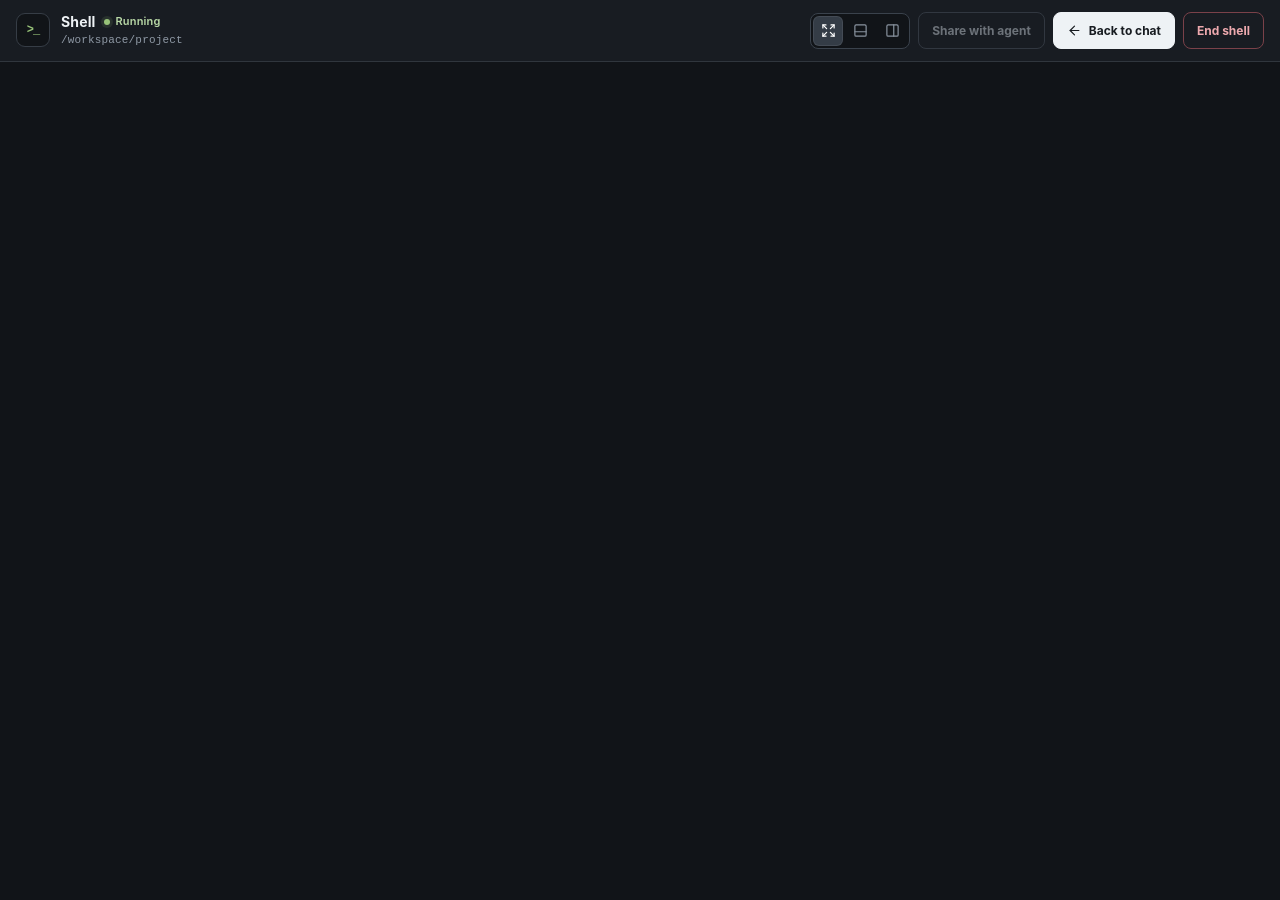
Test case: ShellOverlay › switches between full-screen, bottom, and side docking with an accessible resizer
Step 1. Click the button named "Dock bottom" → (860, 30), box [845,16,875,46]
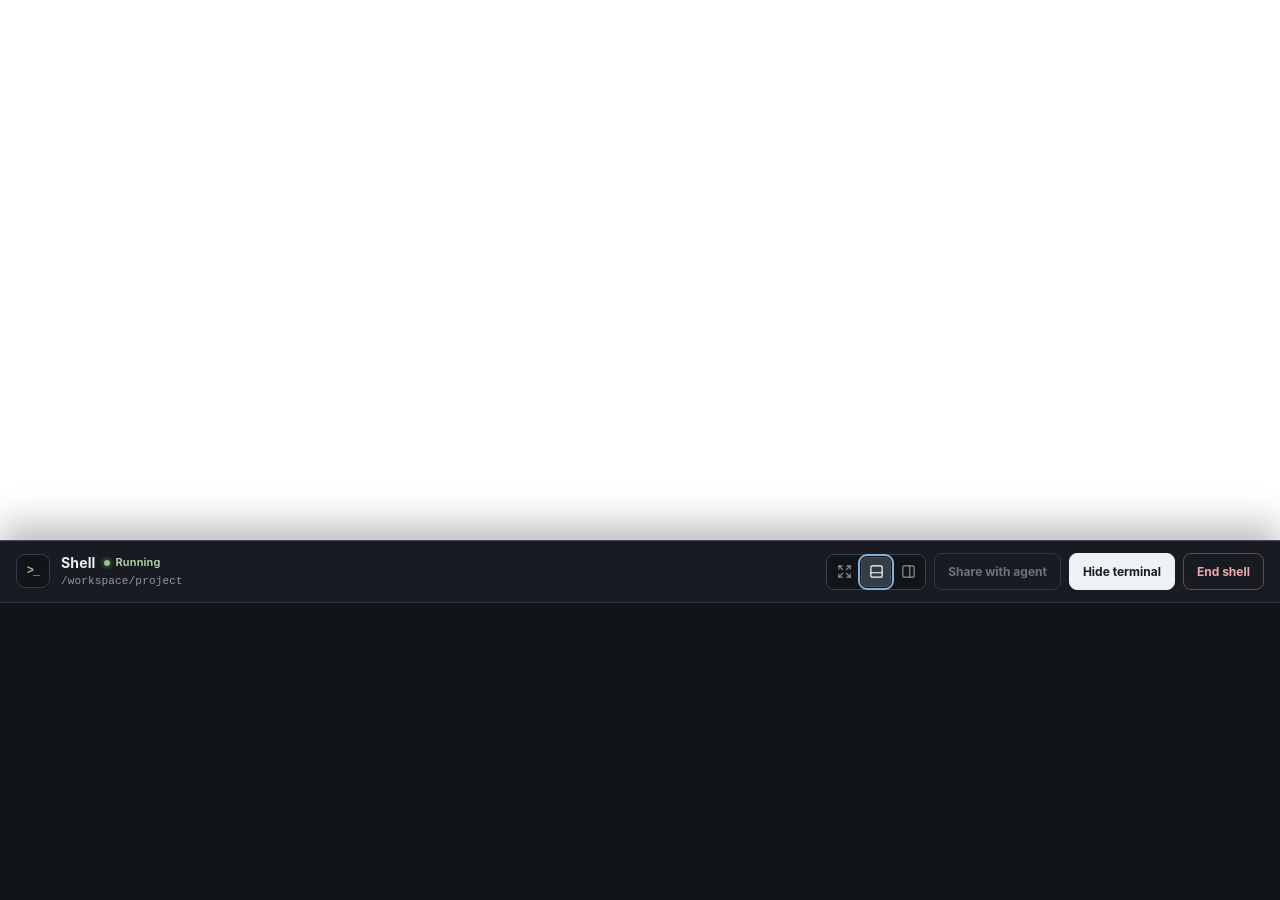
expect the button "Hide terminal" is shown: met, box [1069,553,1175,590]
Step 2. Press ArrowUp in the element named "Resize bottom terminal dock", box [0,536,1279,546]
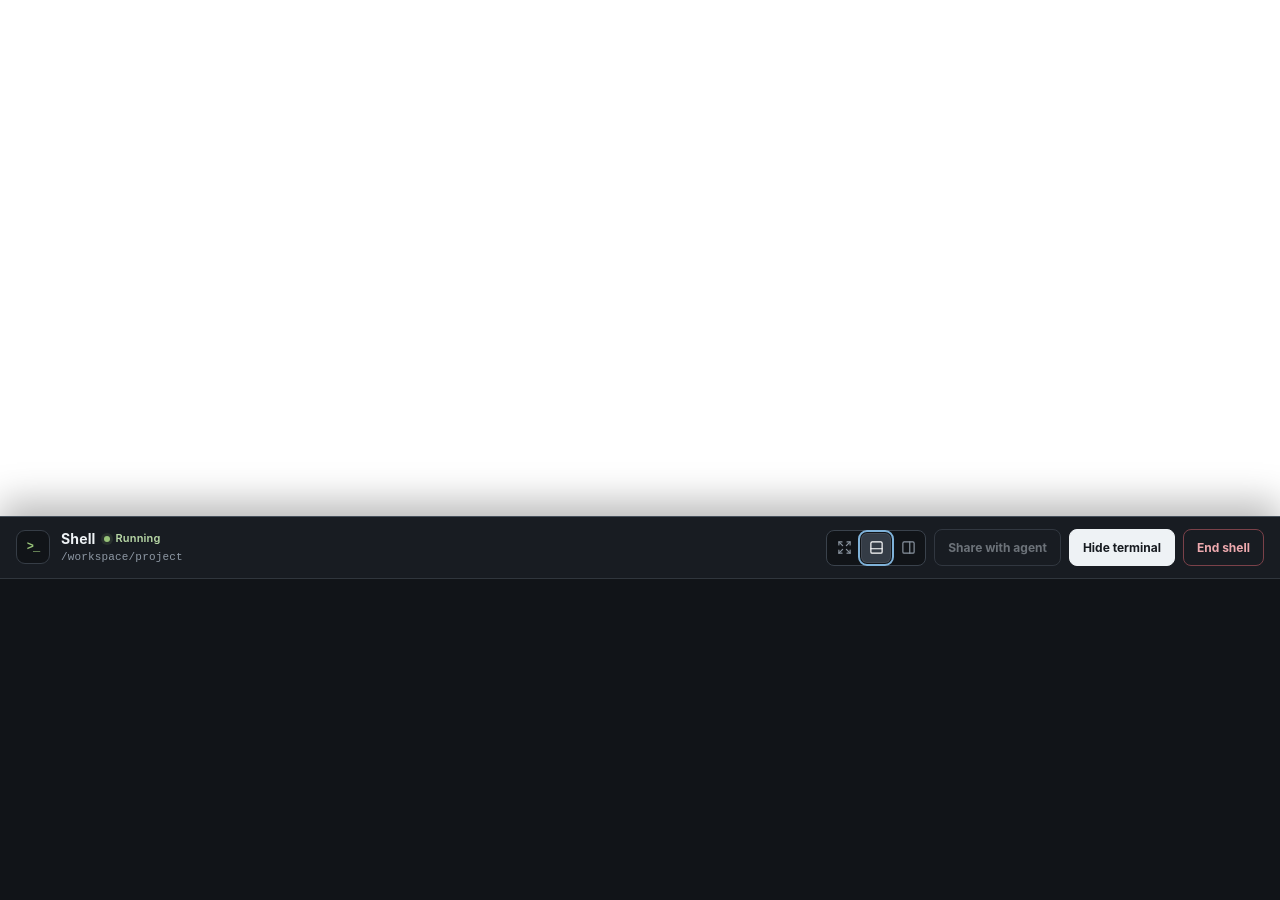
Step 3. Click the button named "Dock right" → (908, 548), box [893,532,923,562]
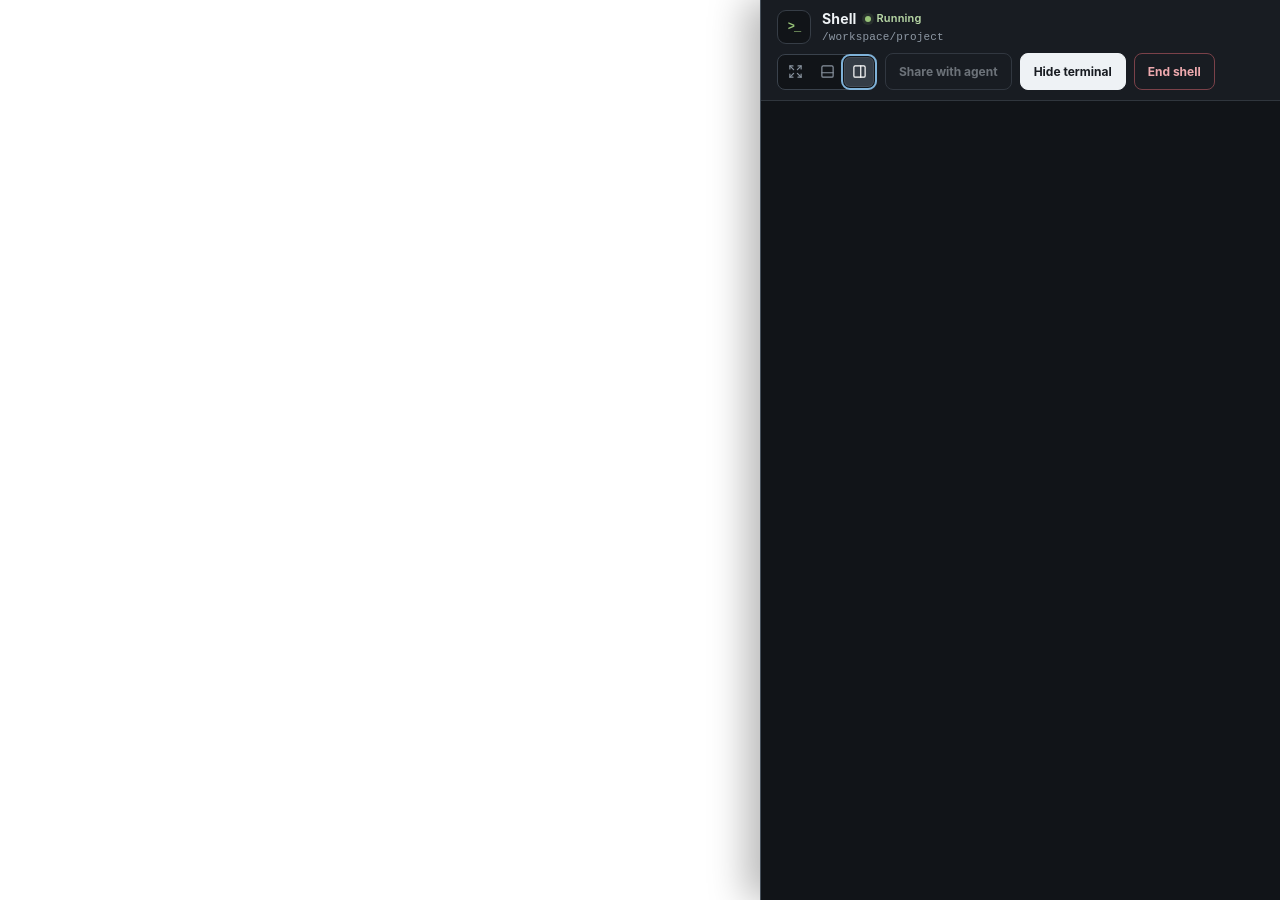
expect the element named "Resize right terminal dock" is shown: met, box [756,0,766,899]
Step 4. Click the button named "Full screen" → (795, 72), box [780,57,810,87]
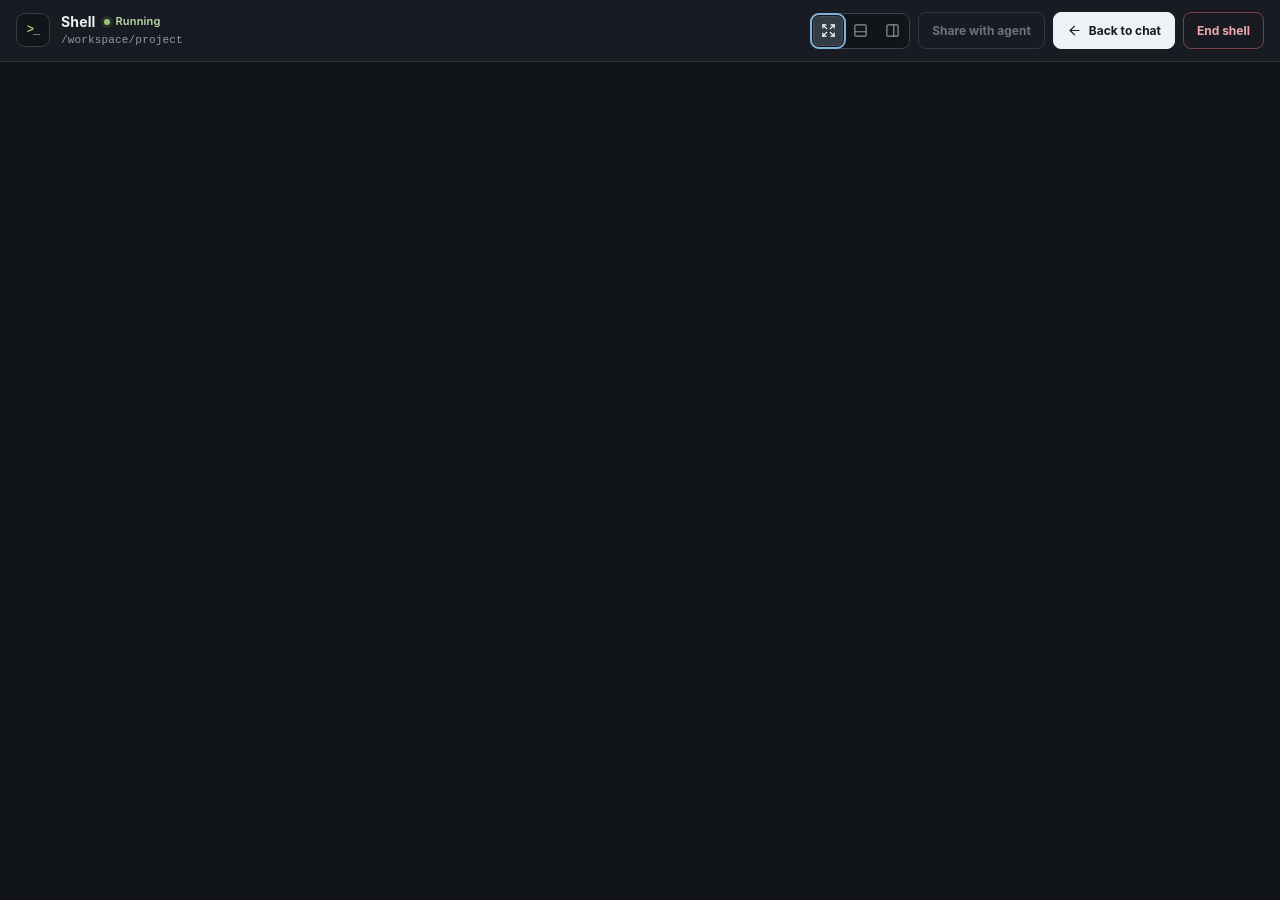
expect the button "Back to chat" is shown: met, box [1053,12,1175,49]
